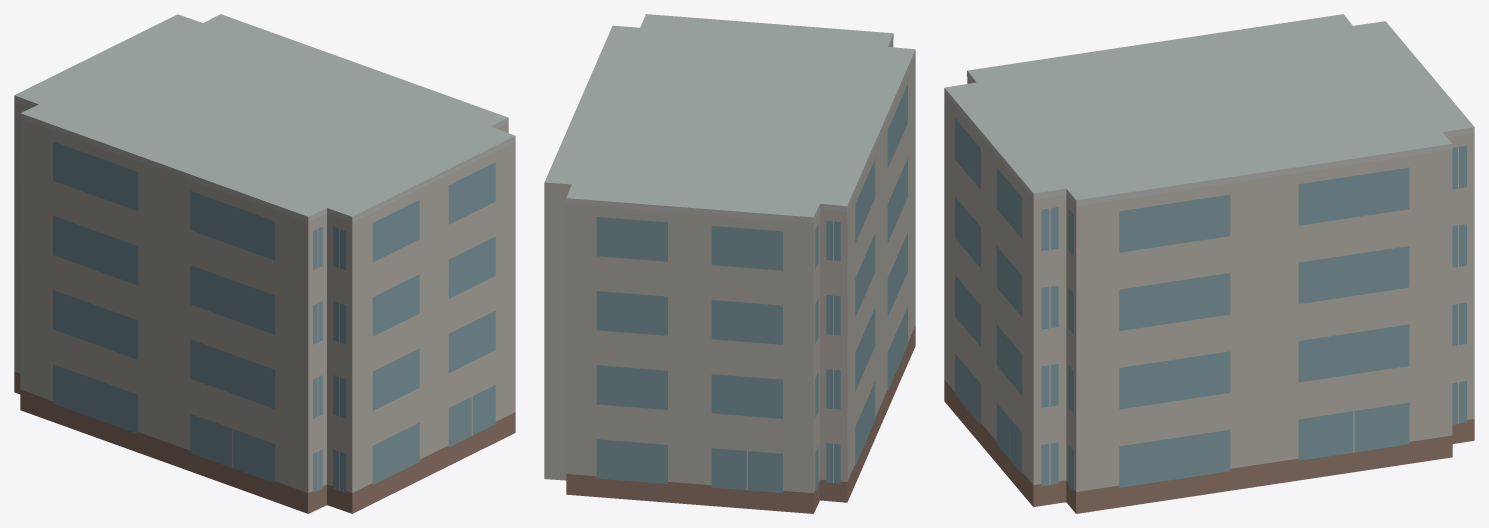
File: survey-upis-32862776.glb
The picture shows the model from 3 angles, left to right: view 1: azimuth 30°, elevation 25°; view 2: azimuth 150°, elevation 25°; view 3: azimuth 270°, elevation 25°; orthographic projection. The views are drawn at different scales.
Visible parts, largest first — view 1: survey-upis-32862776.tmp; view 2: survey-upis-32862776.tmp; view 3: survey-upis-32862776.tmp.
Part boxes in pixels (x1,y1,x2,y2): survey-upis-32862776.tmp: (14,14,515,513); survey-upis-32862776.tmp: (544,14,915,513); survey-upis-32862776.tmp: (944,14,1474,513).
Size of the model in its own units: 16.51 by 12.95 by 19.86.
